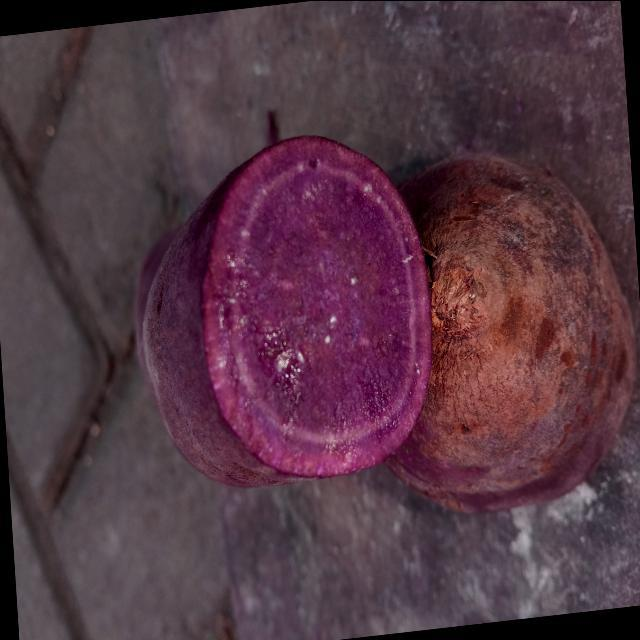Healthy Sweet Potato: (204, 135, 431, 477)
